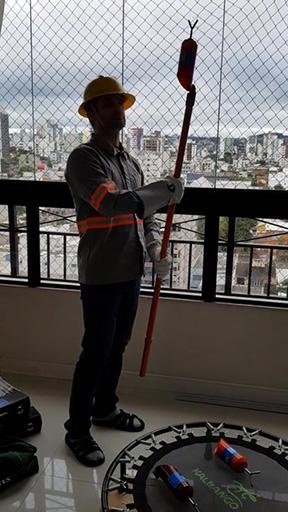Detector_Tensao_Contato: (155, 464, 198, 511), (214, 438, 259, 482), (177, 18, 199, 90)
Vara_Manobra: (139, 90, 196, 378)
